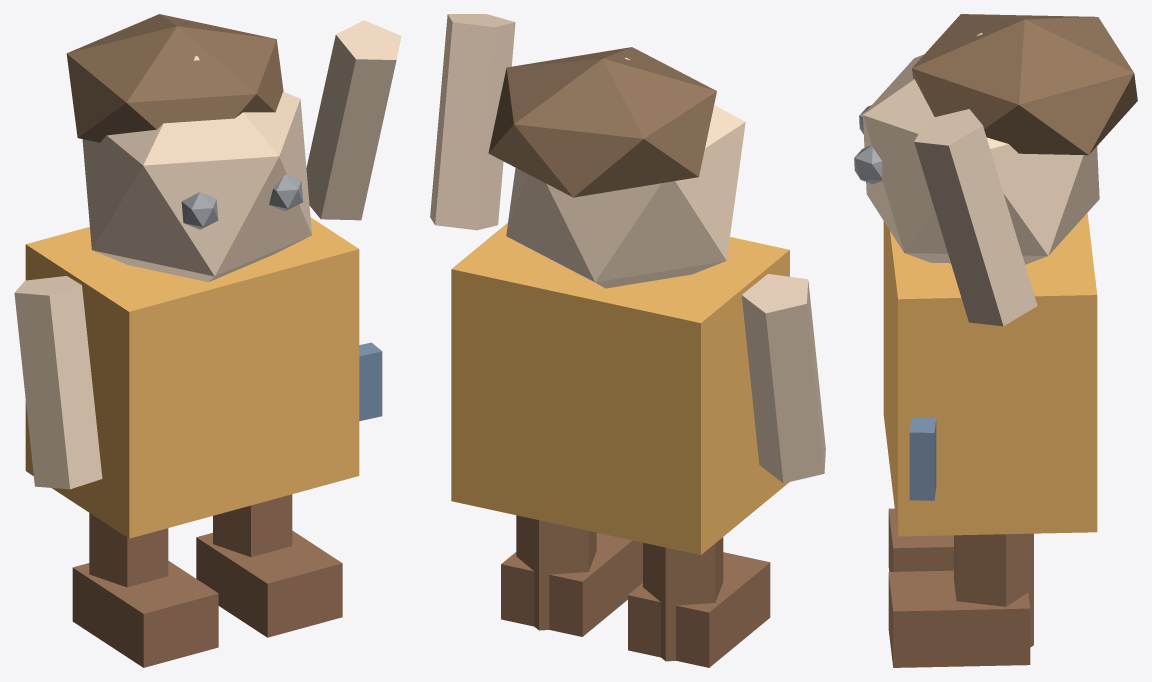
Rendered from npcpose_villager_wave_03.glb.
3 views of the same model, side by side, from view 1: azimuth 30°, elevation 25°; view 2: azimuth 150°, elevation 25°; view 3: azimuth 270°, elevation 25° (orthographic). The views are drawn at different scales.
Parts seen in each view (by area): view 1: npcpose; view 2: npcpose; view 3: npcpose.
Boxes of the visible parts, left/top/right/bottom form: npcpose: left=14, top=14, right=401, bottom=667; npcpose: left=430, top=14, right=825, bottom=667; npcpose: left=854, top=14, right=1137, bottom=667.
Size of the model in its own units: 0.7154 by 1.06 by 0.4552.
